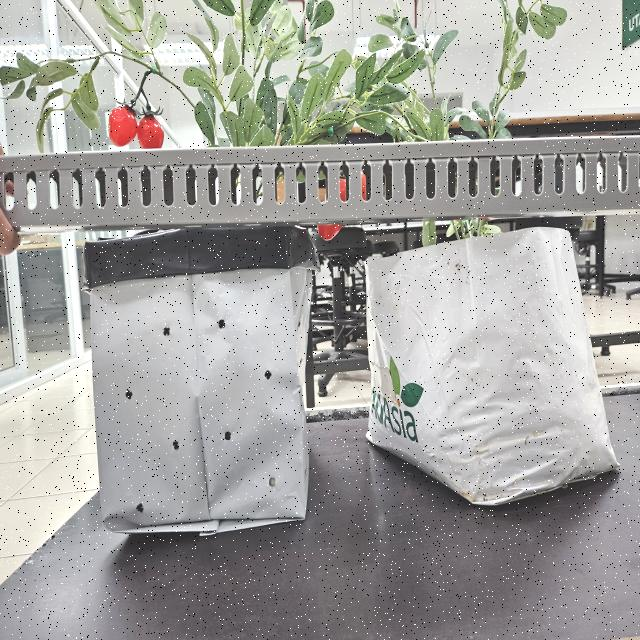Obstacle: (0, 135, 640, 240)
Soilbag: (363, 228, 620, 510), (86, 250, 313, 538)
Tomato: (106, 98, 171, 152), (326, 176, 346, 215), (317, 224, 342, 241), (361, 162, 371, 203)
plant: (0, 0, 429, 230), (359, 0, 567, 240)
